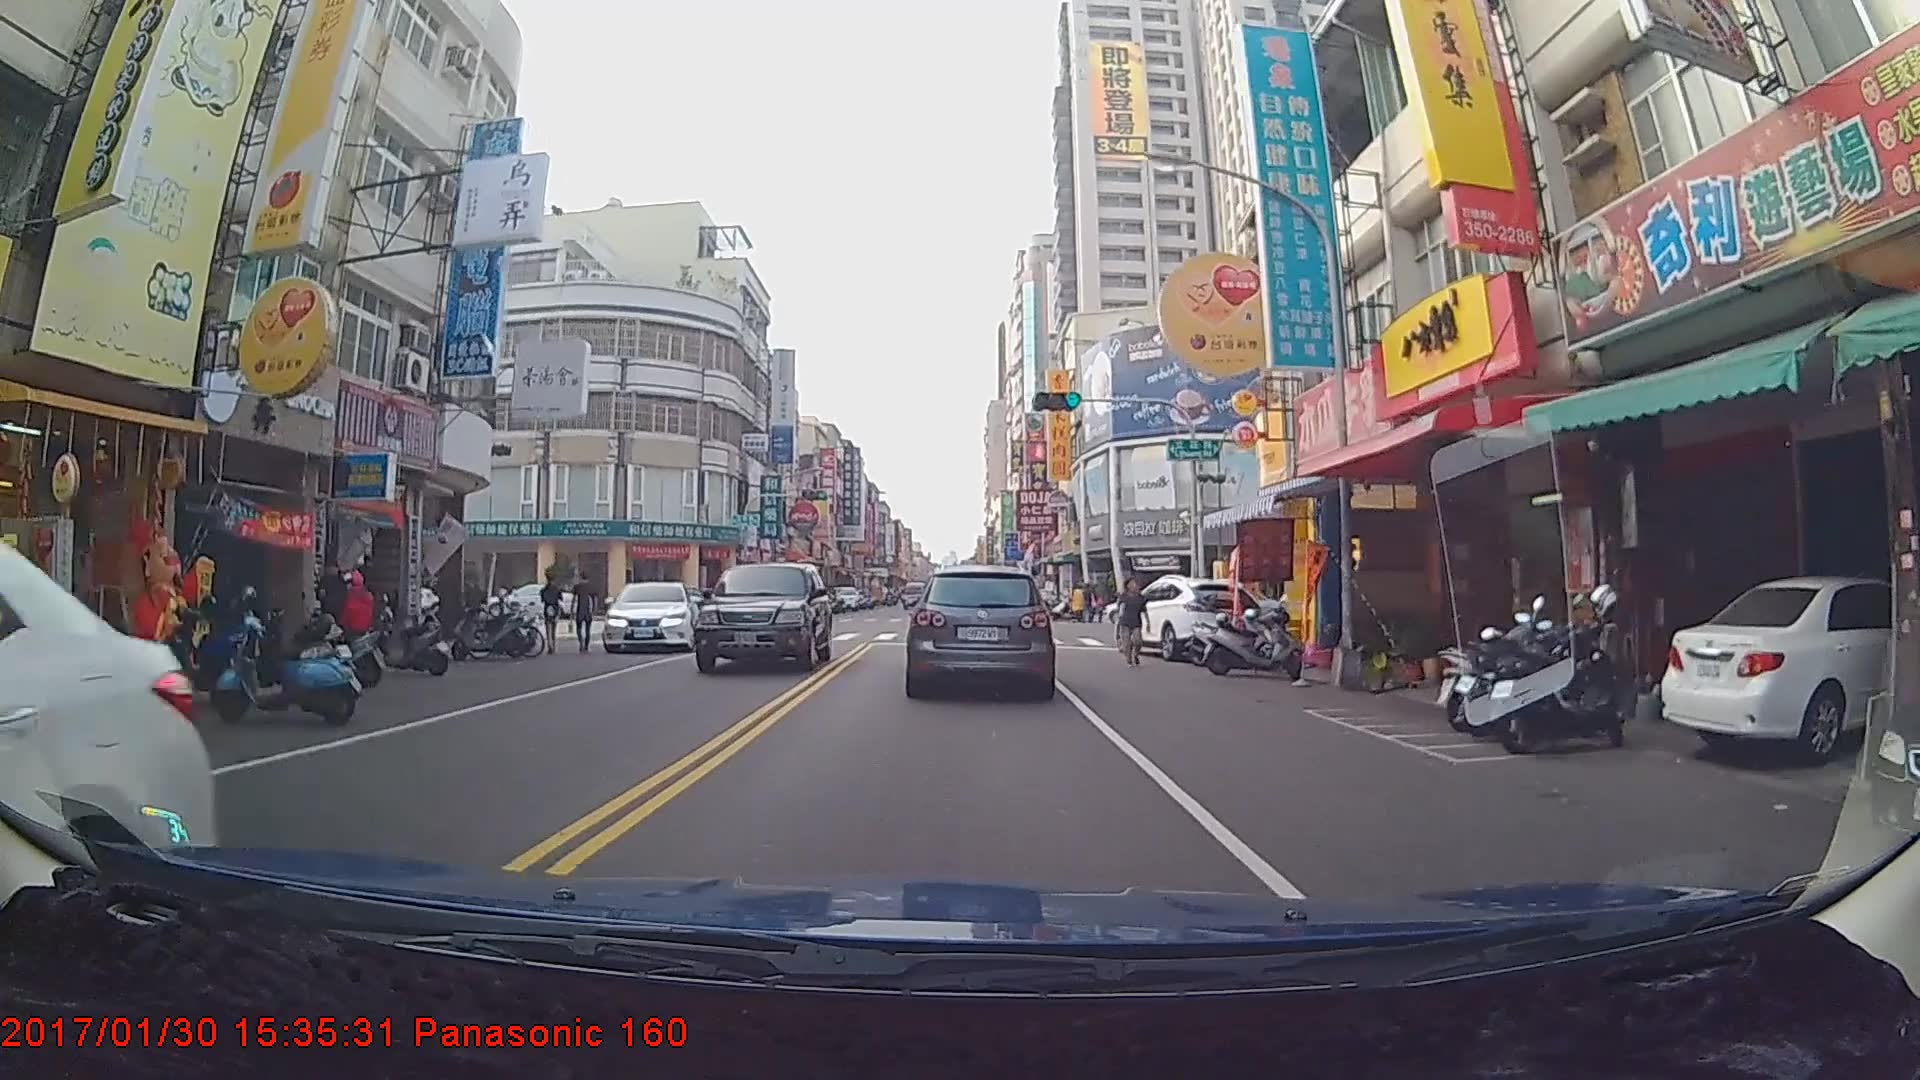pedestrian: (312, 552, 358, 660), (1113, 578, 1149, 664), (570, 569, 600, 649), (539, 572, 565, 656)
rider: (291, 565, 393, 693)
vehicle: (0, 490, 217, 1033), (1654, 572, 1916, 768), (906, 566, 1053, 696), (692, 557, 833, 674), (1108, 573, 1265, 659), (601, 577, 698, 652), (902, 577, 929, 606)
